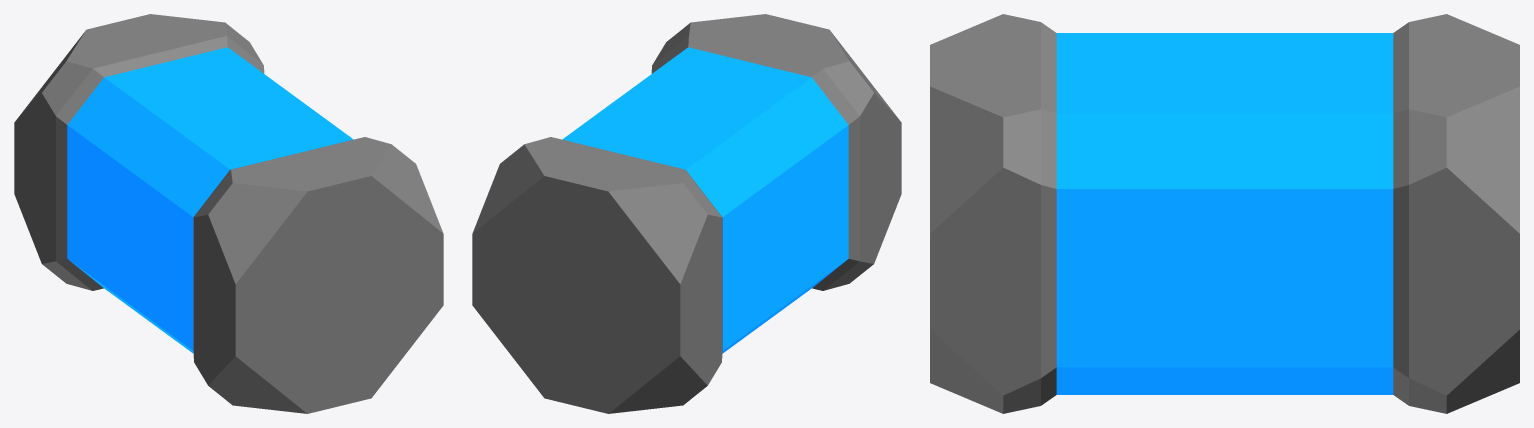
The model's file is crate.fbx.
3 views of the same model, side by side, from view 1: azimuth 30°, elevation 25°; view 2: azimuth 150°, elevation 25°; view 3: azimuth 270°, elevation 25° (orthographic). The views are drawn at different scales.
Visible parts, largest first — view 1: Crate_001; view 2: Crate_001; view 3: Crate_001.
Boxes of the visible parts, <box> form: Crate_001: <box>14,14,443,413</box>; Crate_001: <box>472,14,901,413</box>; Crate_001: <box>930,14,1519,413</box>.
Bounding box in the file's own units: 109 × 111 × 200.
